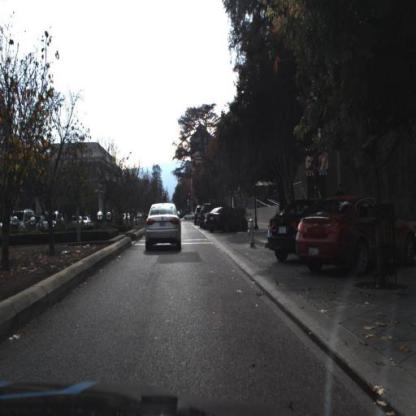car: (297, 196, 415, 275), (267, 196, 309, 263), (141, 198, 184, 259), (268, 200, 299, 262), (203, 206, 250, 233), (206, 208, 244, 232), (8, 205, 36, 233), (37, 206, 65, 233)
pedestrian: (299, 194, 407, 275), (339, 180, 346, 203)
